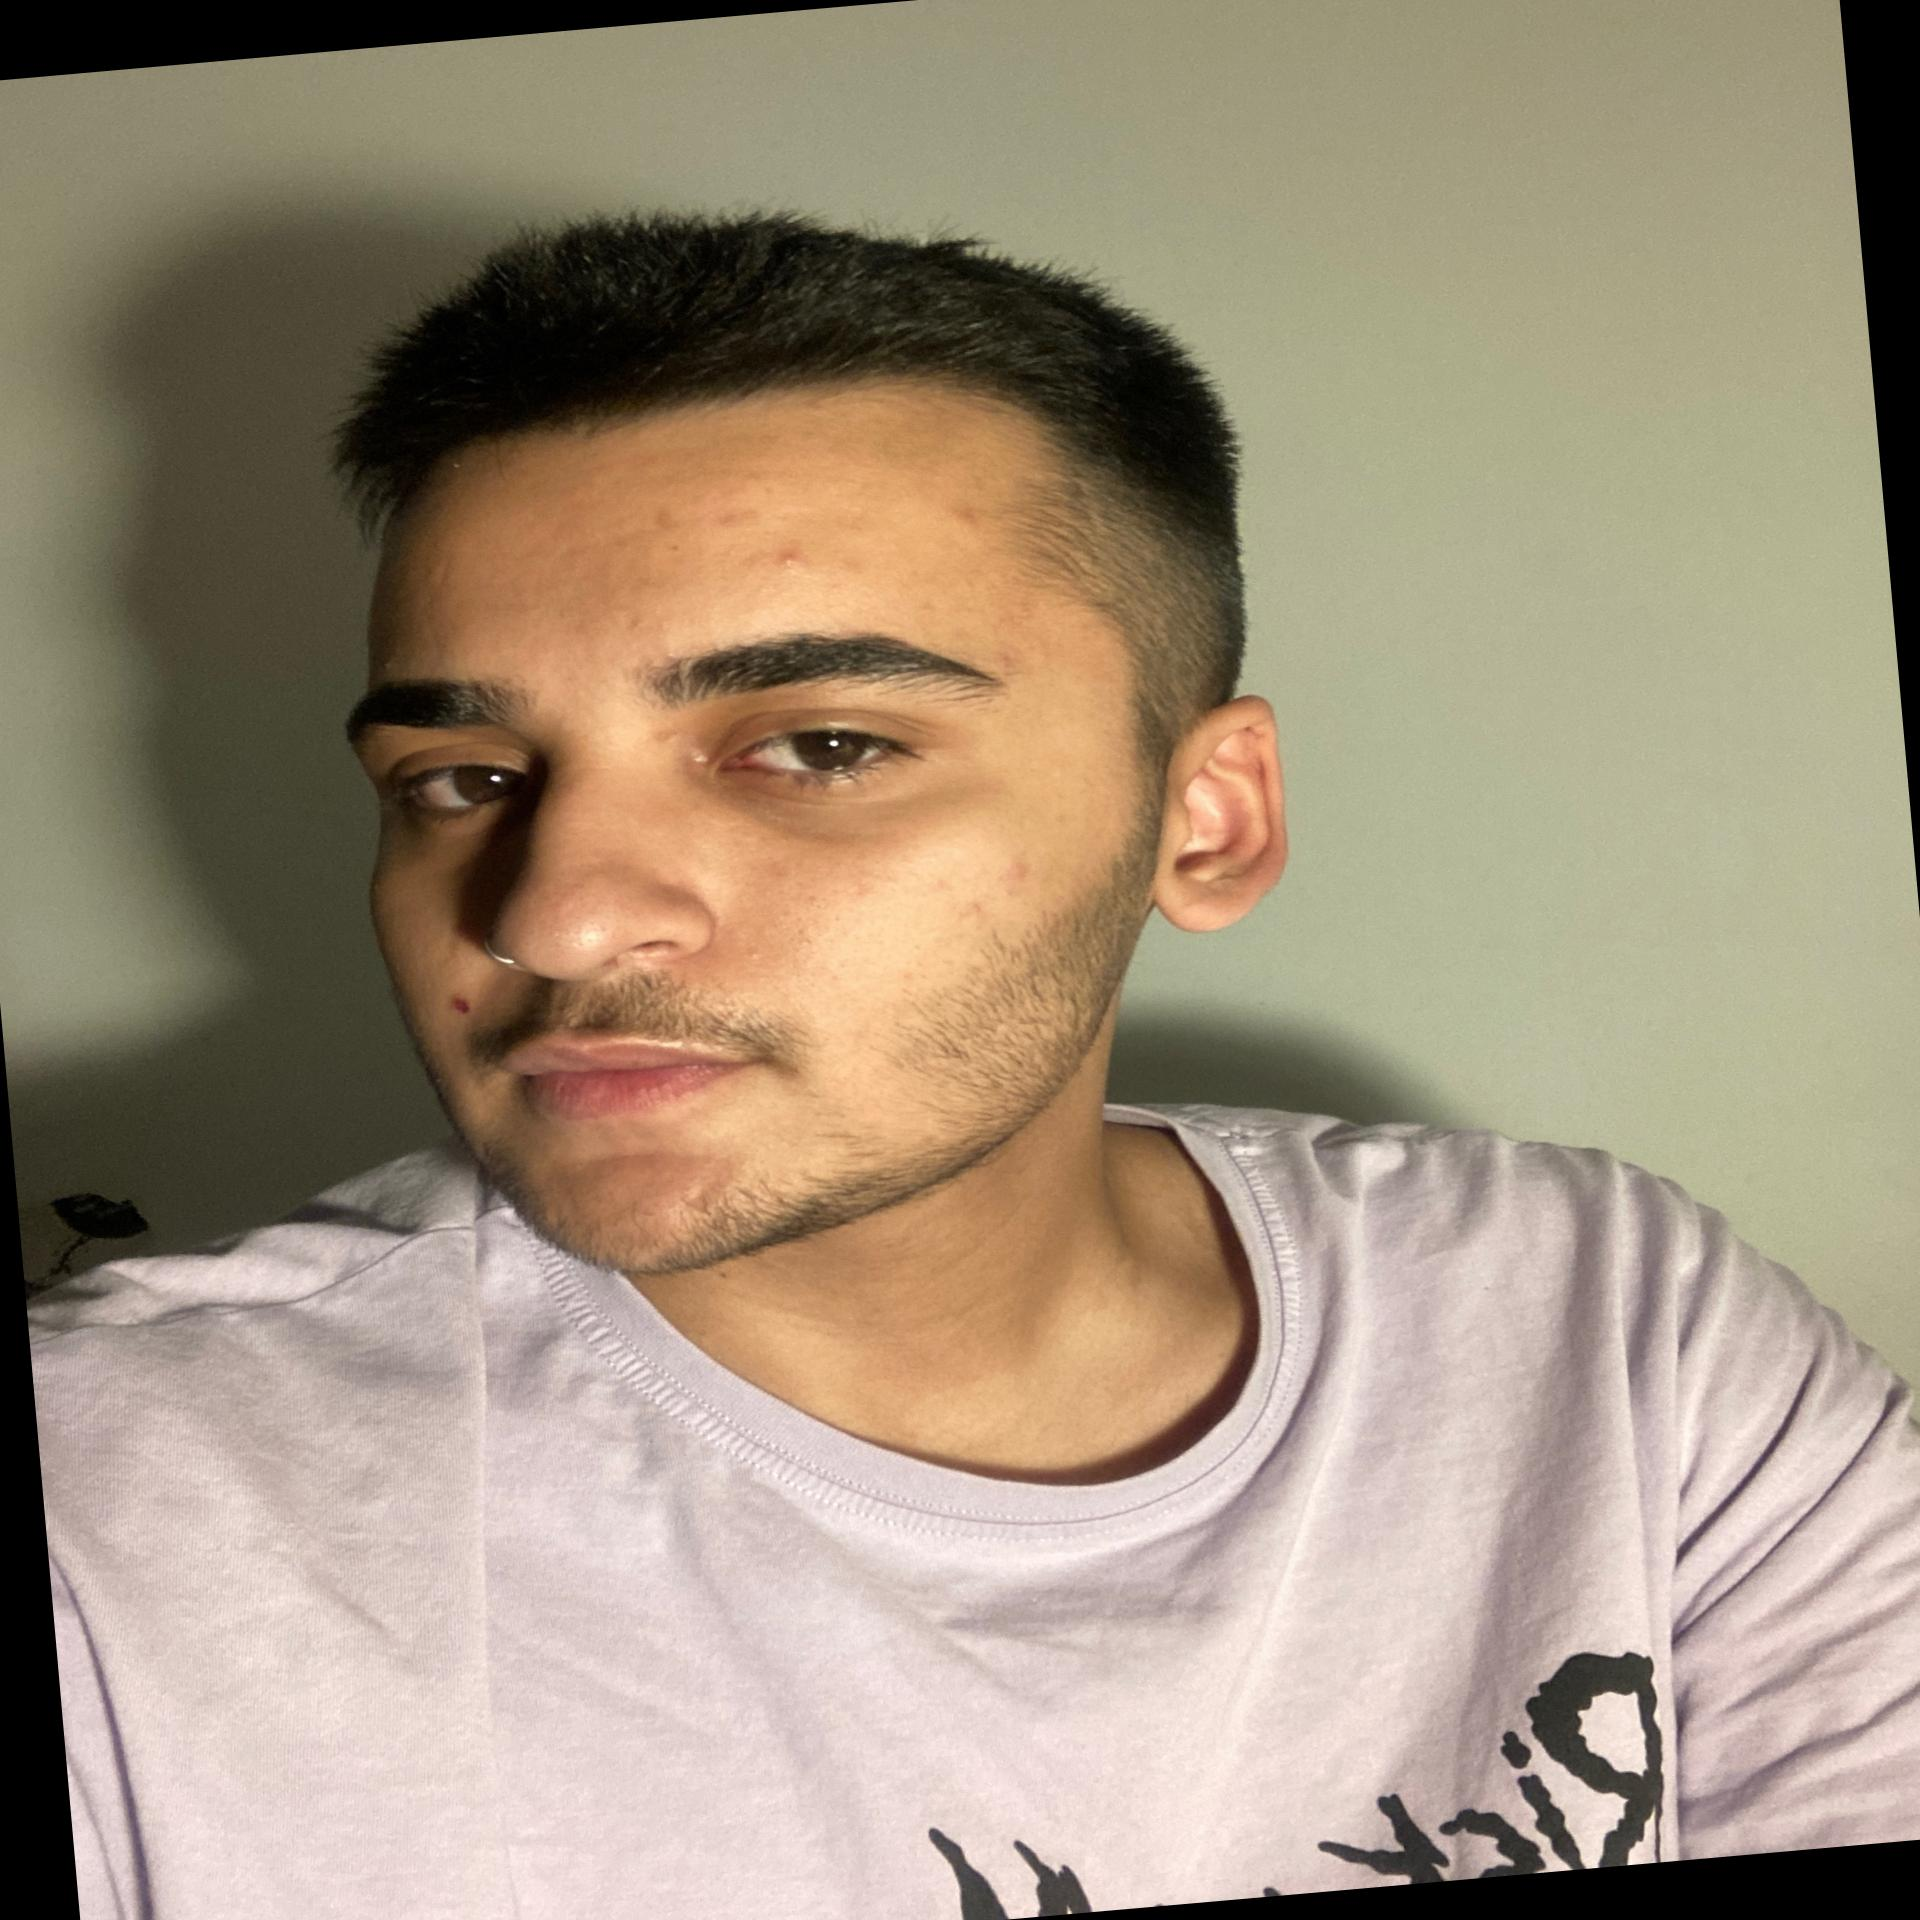Acne: (709, 494, 772, 536), (828, 552, 877, 593), (988, 644, 1037, 679), (438, 986, 484, 1023), (997, 593, 1039, 629), (642, 499, 687, 533), (768, 542, 809, 573), (911, 587, 949, 619), (999, 855, 1037, 884), (949, 506, 988, 535), (928, 874, 967, 900), (962, 902, 992, 925)
Blackhead: (505, 895, 636, 962)
Dark Circles: (691, 761, 971, 867)
Englarged Pores: (749, 883, 860, 986)
